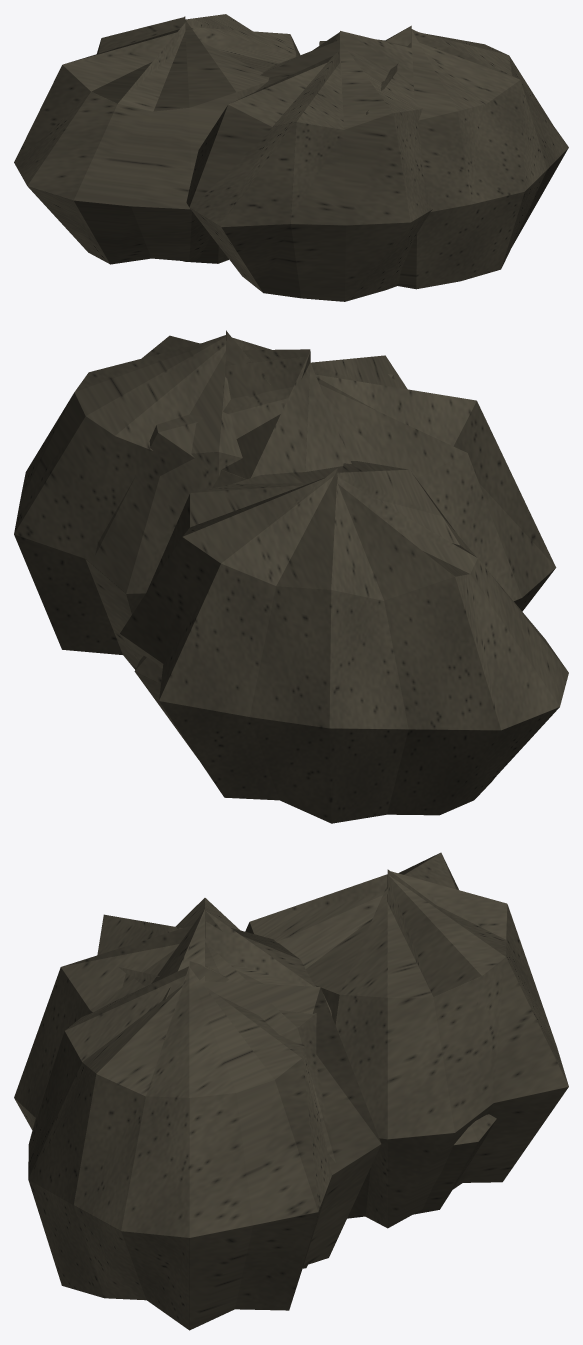
File: PROP-45E813BF273E_lod0.glb
3 renders of one model, top to bottom at view 1: azimuth 30°, elevation 25°; view 2: azimuth 150°, elevation 25°; view 3: azimuth 270°, elevation 25°, orthographic. The views are drawn at different scales.
Parts seen in each view (by area): view 1: rock.009; view 2: rock.009; view 3: rock.009.
Boxes of the visible parts, bbox=[...] form: rock.009: bbox=[14, 14, 568, 301]; rock.009: bbox=[14, 330, 568, 823]; rock.009: bbox=[14, 852, 568, 1330].
Size of the model in its own units: 1.84 by 0.8806 by 1.45.
1 material, 1 textured.
